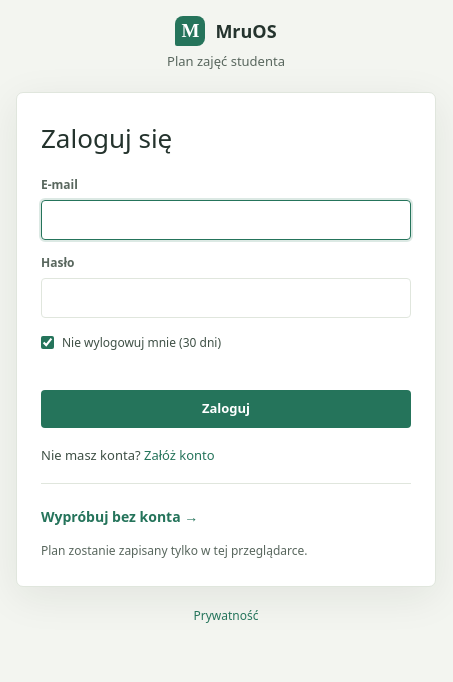
it: login page › explains failed and locked logins
This screenshot has width=453, height=682.
Type "student@example.com" into the field labelled "E-mail". click: (226, 220)
box: [41,200,411,240]
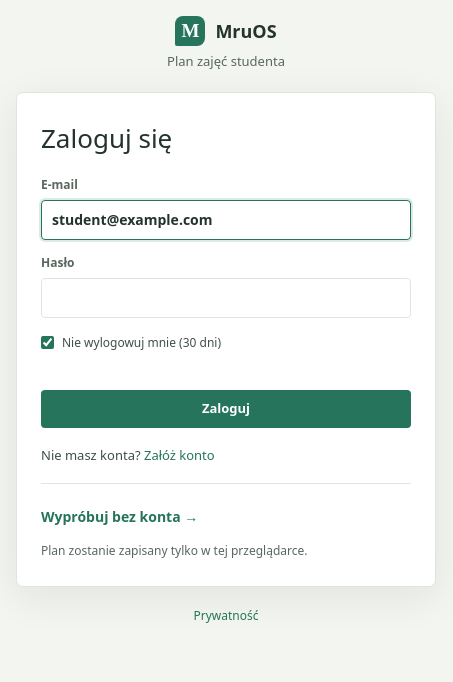
Type "wrong-password" into the password field labelled "Hasło". click: (226, 298)
box: [41,278,411,318]
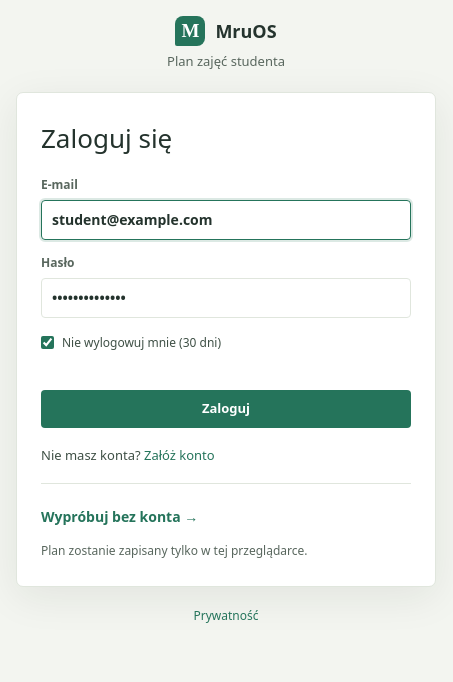
Click the button "Zaloguj". click: (226, 408)
box: [41,390,411,428]
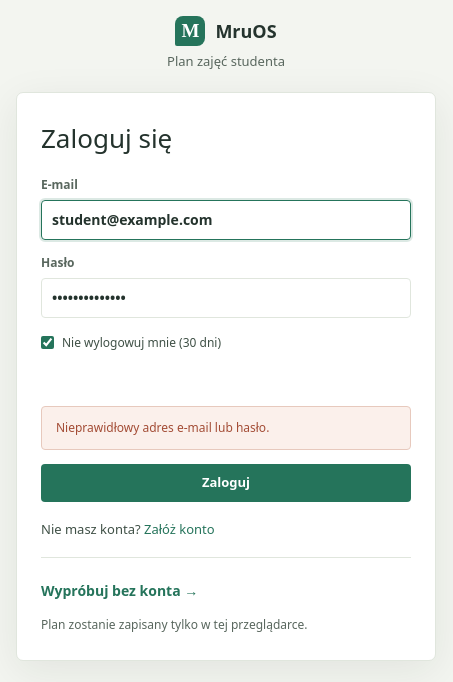
Now the message reads "Nieprawidłowy adres e-mail lub hasło.", box [56,418,269,436]
Click the button "Zaloguj". click: (226, 482)
box: [41,464,411,502]
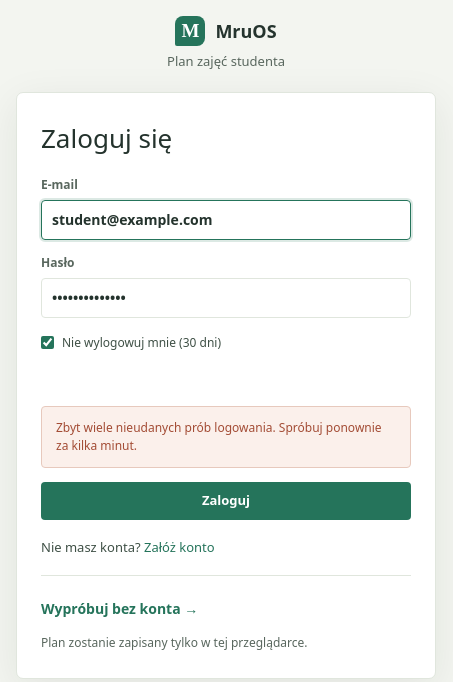
Now the message shows "Zbyt wiele nieudanych prób", box [56,418,382,454]
